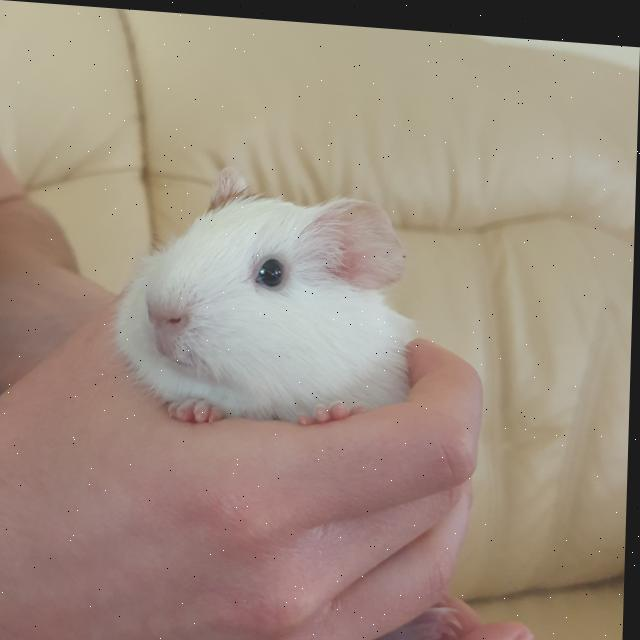guinea pig: (106, 151, 433, 437)
